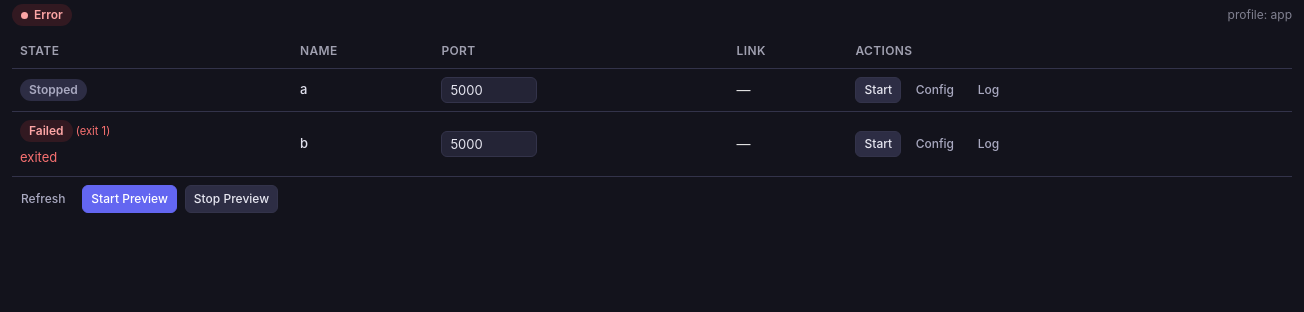
PreviewPanel while a start is in progress › a failed start leaves Start Preview and the row controls usable again
Expected: the button "Start Preview" is shown, [82,185,177,213]
Expected: the button "Start" in the row of "Stopped" is enabled, [856,77,901,103]
Step 1. Click the button "Log" in the row of "Failed" → click(988, 144), box [969,131,1008,157]
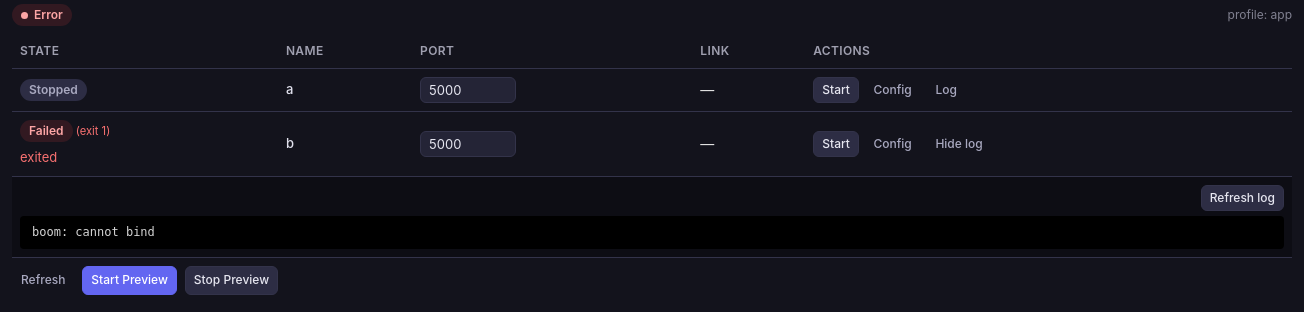
Expected: the text "boom: cannot bind" is shown, [20,216,1284,249]
